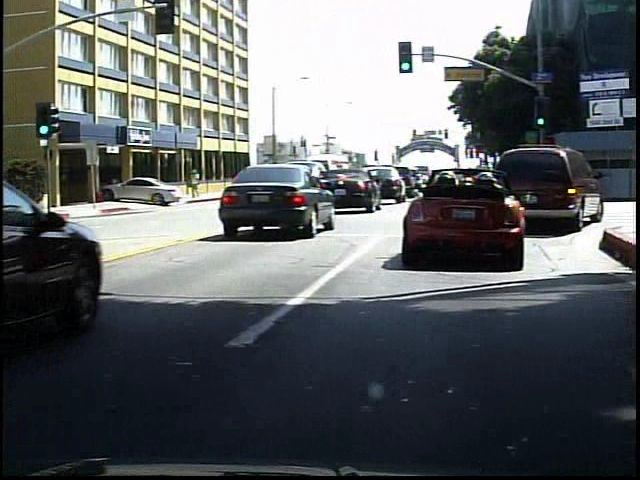person: (184, 169, 199, 202)
